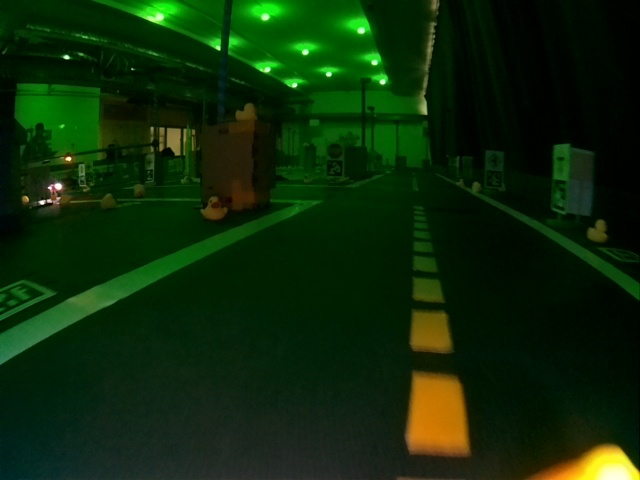Duckie: (201, 198, 226, 218), (588, 220, 606, 240), (236, 103, 256, 121), (101, 194, 116, 209), (133, 185, 144, 198), (472, 181, 481, 191), (456, 179, 465, 187)
Intersection sign: (554, 145, 568, 176), (486, 151, 503, 168)
QR code: (0, 279, 57, 322), (552, 179, 568, 213), (600, 247, 637, 261), (486, 170, 503, 189), (326, 159, 343, 176)
Stop sign: (327, 142, 342, 158)
